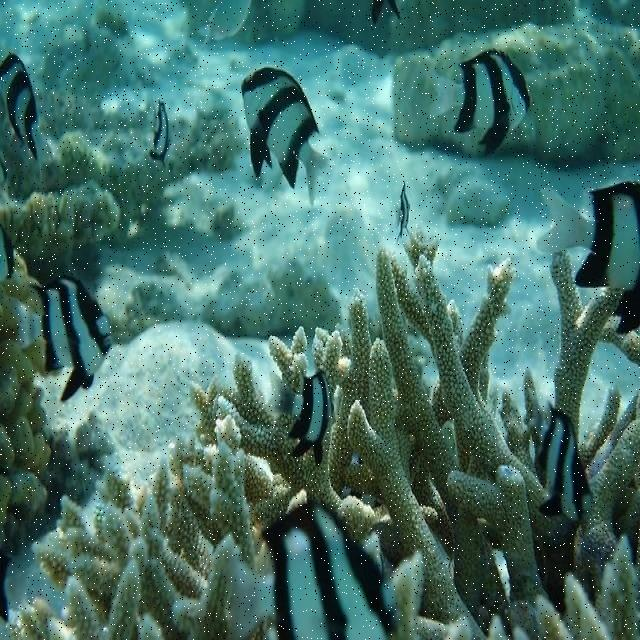fish: (230, 505, 402, 639), (538, 179, 639, 330), (8, 277, 115, 399), (243, 65, 336, 204), (429, 50, 531, 148), (532, 394, 591, 520), (0, 54, 53, 176), (266, 372, 337, 463)
reefs: (11, 227, 639, 639)
